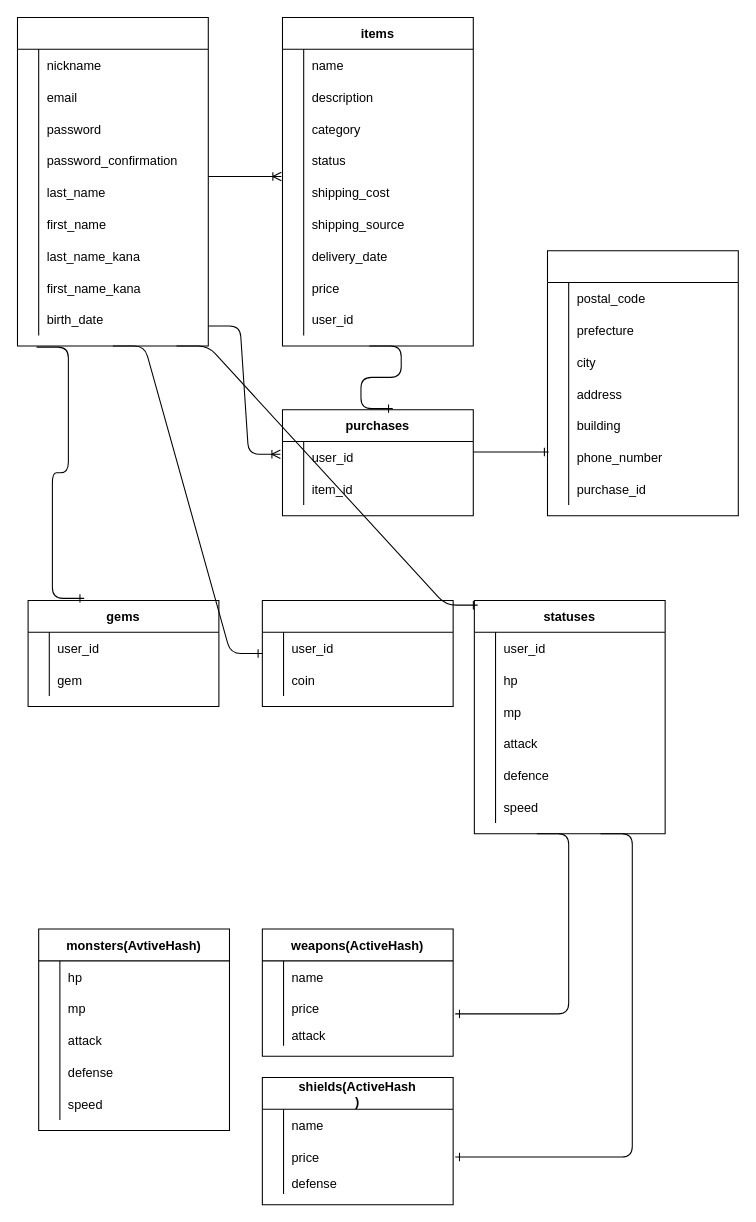
This 756x1222 diagram has some shape labels left out. Here are the shapes that lost their labels. From the top down, the box of each, then its label:
(16, 16, 208, 346): users
(546, 250, 738, 516): addresses
(261, 599, 453, 706): coins
